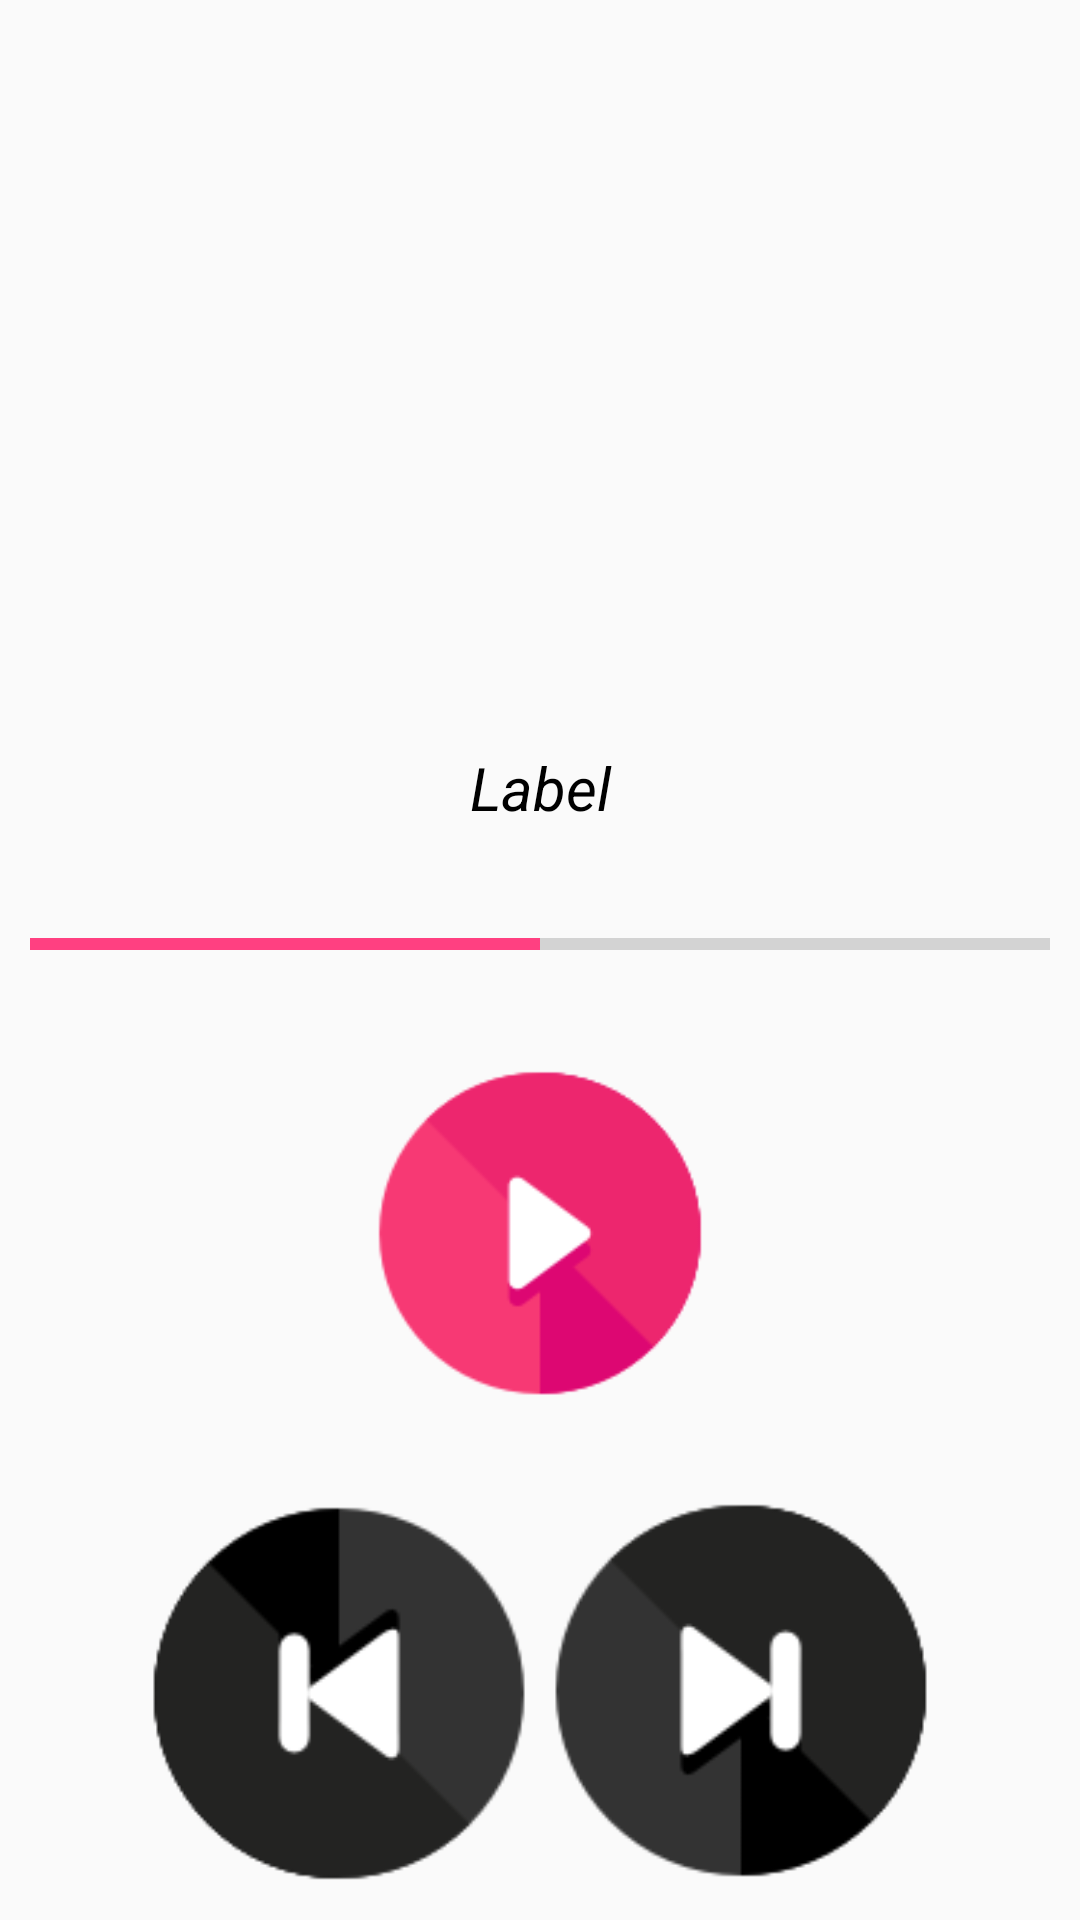

Icons on this 1080*1920 Android screen, each with the point to tap as (x,y):
play: (540,1233)
